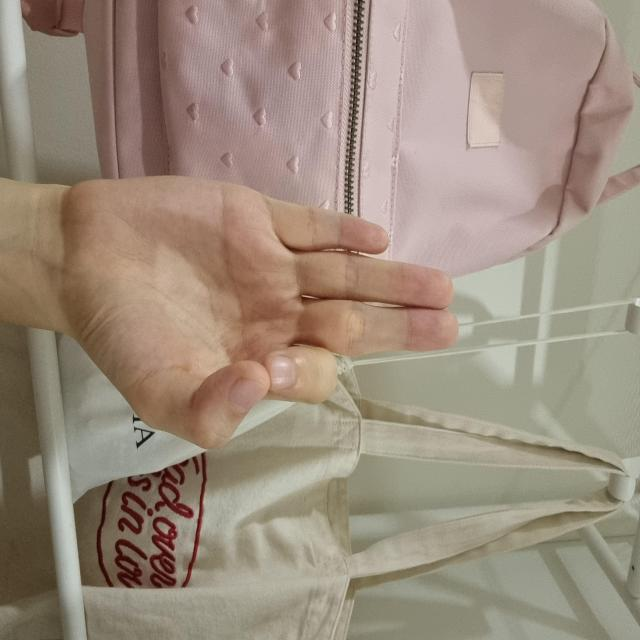F: (172, 179, 452, 586)
